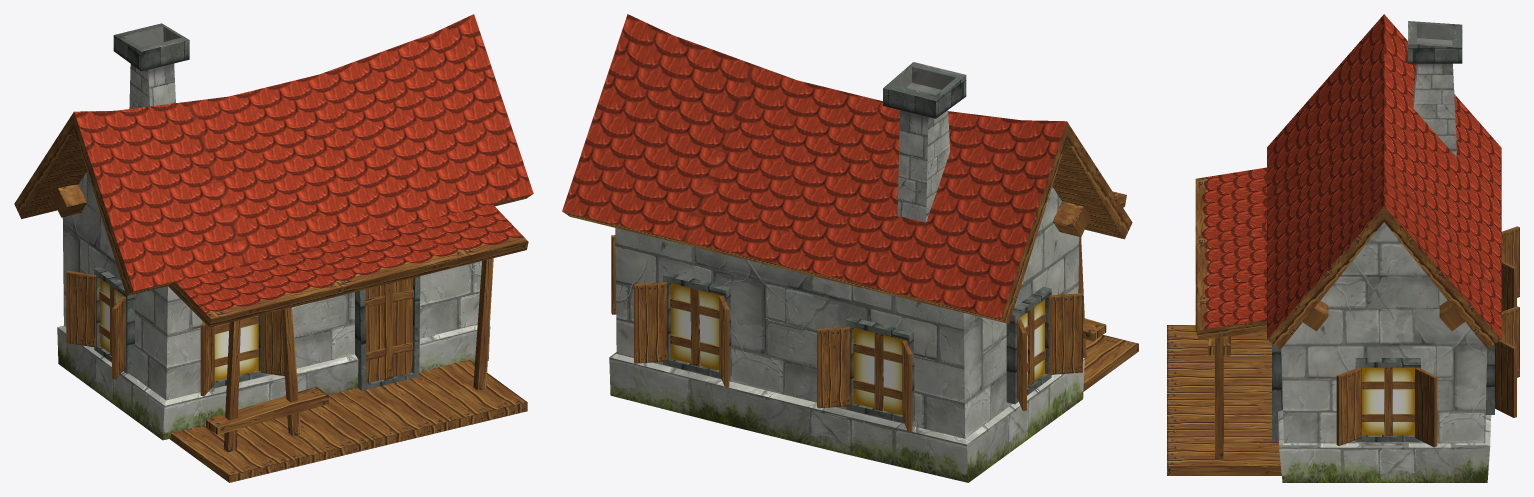
Rendered from House_01.FBX.
3 renders of one model, left to right at view 1: azimuth 30°, elevation 25°; view 2: azimuth 150°, elevation 25°; view 3: azimuth 270°, elevation 25°, orthographic. The views are drawn at different scales.
Parts seen in each view (by area): view 1: House_01, Glass; view 2: House_01, Glass; view 3: House_01, Glass.
Part boxes in pixels (x1,y1,x2,y2): House_01: (14, 14, 533, 482); Glass: (100, 278, 258, 380); House_01: (562, 14, 1138, 482); Glass: (670, 283, 1044, 414); House_01: (1167, 14, 1519, 482); Glass: (1361, 367, 1414, 435).
Size of the model in its own units: 164 by 131 by 127.
